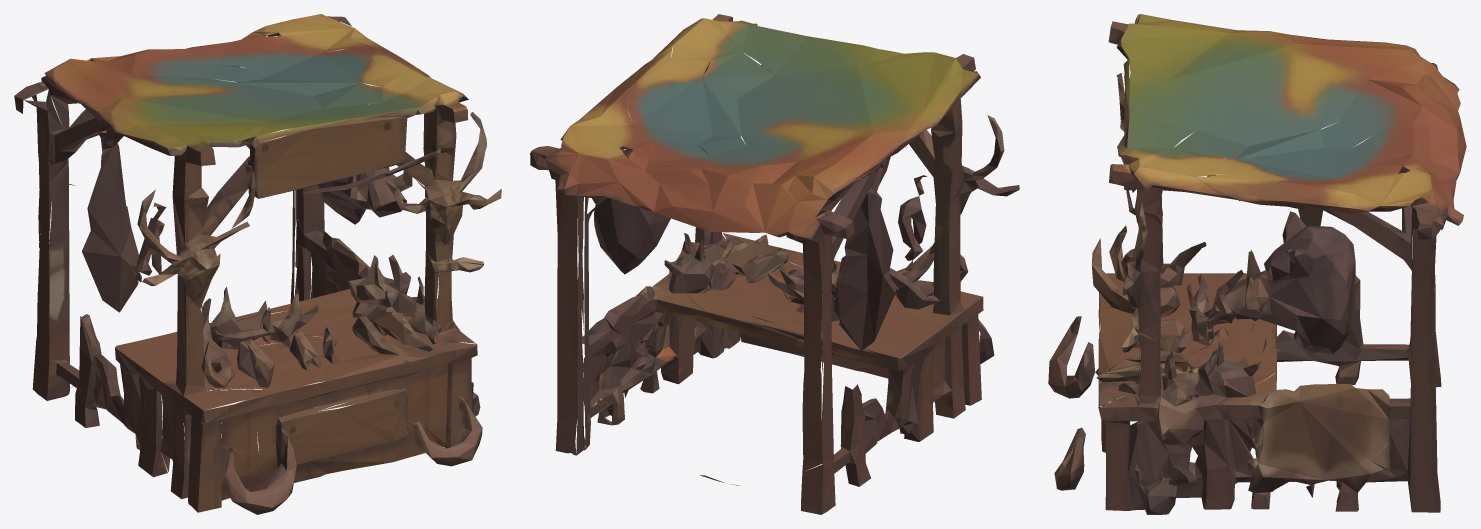
The model's file is stall_trophies.glb.
3 views of the same model, side by side, from view 1: azimuth 30°, elevation 25°; view 2: azimuth 150°, elevation 25°; view 3: azimuth 270°, elevation 25° (orthographic). The views are drawn at different scales.
Parts seen in each view (by area): view 1: geometry_0; view 2: geometry_0; view 3: geometry_0.
Part boxes in pixels (x1=…): geometry_0: x1=14, y1=14, x2=501, y2=514; geometry_0: x1=530, y1=14, x2=1019, y2=514; geometry_0: x1=1048, y1=14, x2=1466, y2=514.
Bounding box in the file's own units: 2.09 × 2 × 2.1.
1 material, 1 textured.
